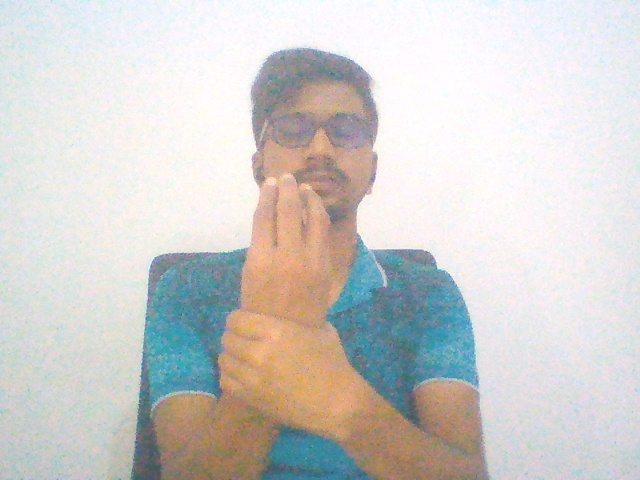tree: (197, 155, 384, 461)
